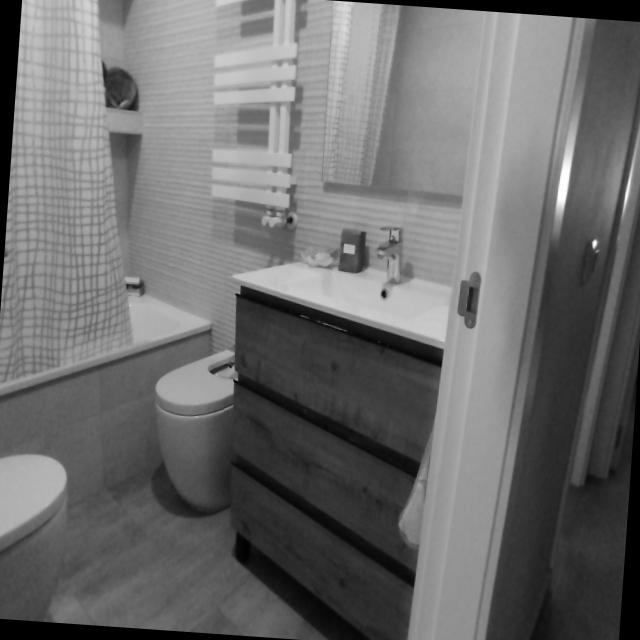shower: (379, 227, 404, 284)
table: (0, 454, 69, 621)
wardrobe: (230, 262, 451, 640)
